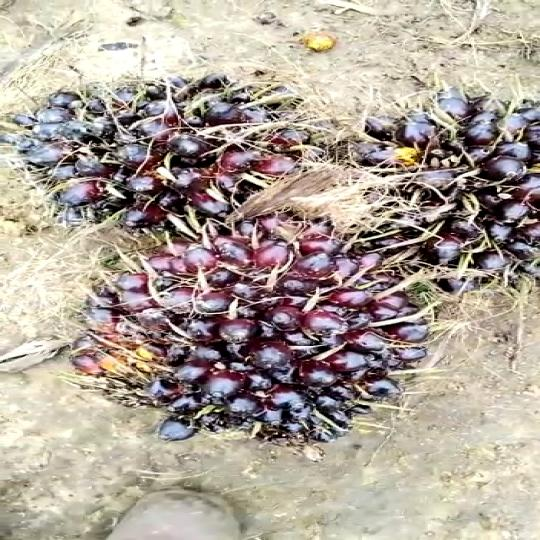mentah: (97, 218, 449, 441), (26, 73, 336, 236), (332, 76, 540, 294)
